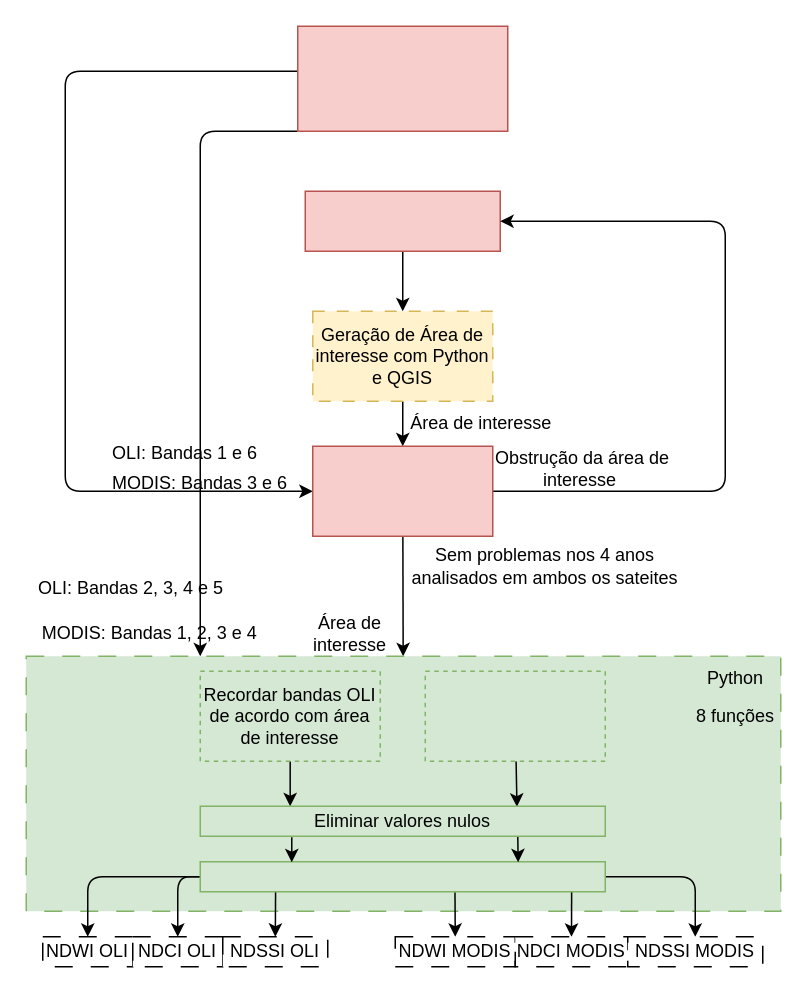
The diagram is 807 pixels wide and 993 high, and some of its shapes have lost their labels. The shapes that lost their labels are listed below. From the top down, each one's centre as x and y in pixels, then its label:
(402,78): Download de dados disponiveis do sensor MODIS e OLI de 2014, 2015, 2016 e 2023
(402,220): Escolha de um ponto no QGIS
(402,490): Inpeção de nuvens e sombrar de nuvens no QGIS
(514,715): Recordar bandas MODIS de acordo com área de interesse
(402,876): Calculo dos indices NDWI, NDCI e NDSSI
